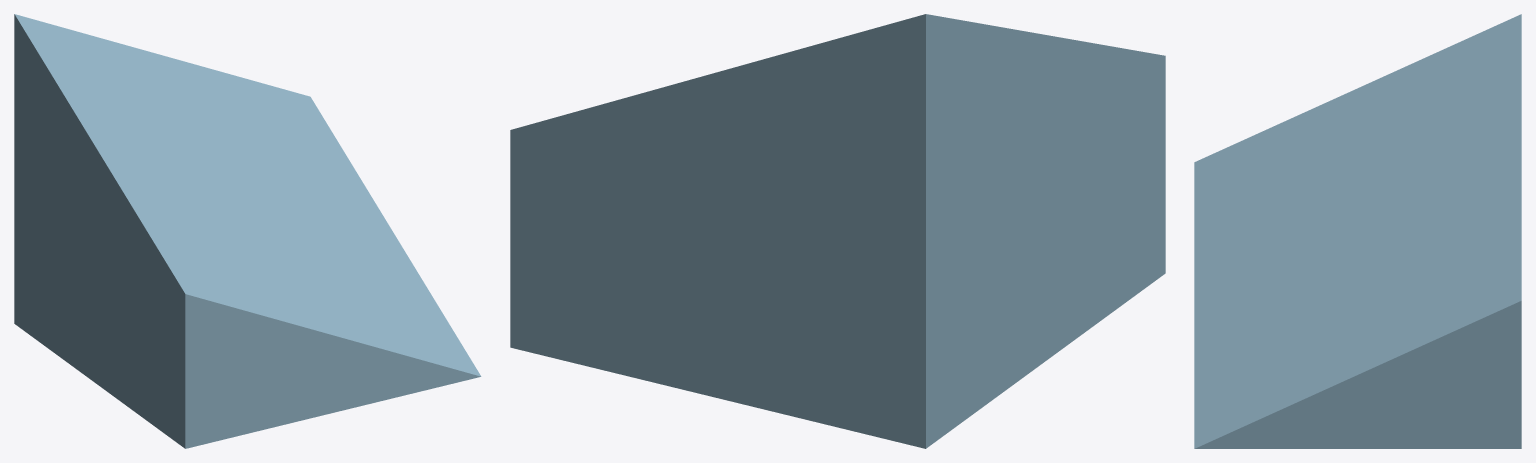
The model's file is OnOffConveyorA_OuterCorner.glb.
The picture shows the model from 3 angles, left to right: view 1: azimuth 30°, elevation 25°; view 2: azimuth 150°, elevation 25°; view 3: azimuth 270°, elevation 25°; orthographic projection. The views are drawn at different scales.
Parts seen in each view (by area): view 1: OnOffConveyorA_OuterCorner_body; view 2: OnOffConveyorA_OuterCorner_body; view 3: OnOffConveyorA_OuterCorner_body.
Boxes of the visible parts, x1,y1,x2,y2 form: OnOffConveyorA_OuterCorner_body: (14,14,481,448); OnOffConveyorA_OuterCorner_body: (510,14,1165,448); OnOffConveyorA_OuterCorner_body: (1194,14,1521,448).
Size of the model in its own units: 1 by 1 by 1.
